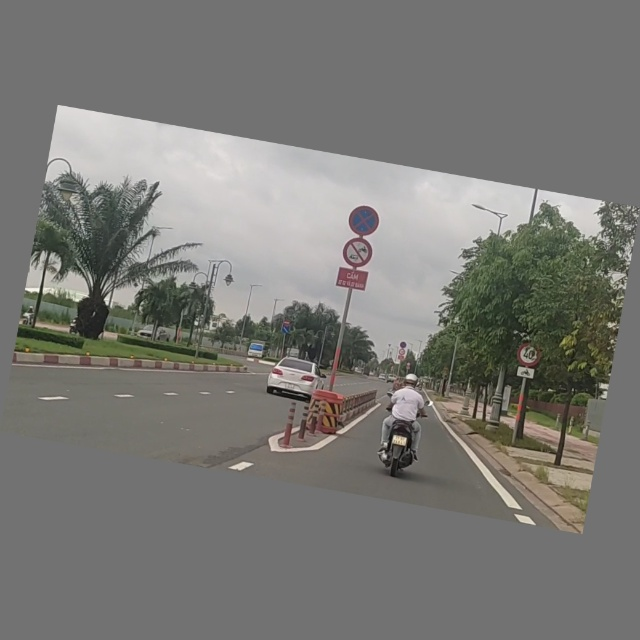P.111: (340, 235, 375, 269)
P.127*40: (515, 342, 543, 370)
P.130: (346, 200, 382, 240)
S.505a*Xe may: (516, 365, 536, 382)
